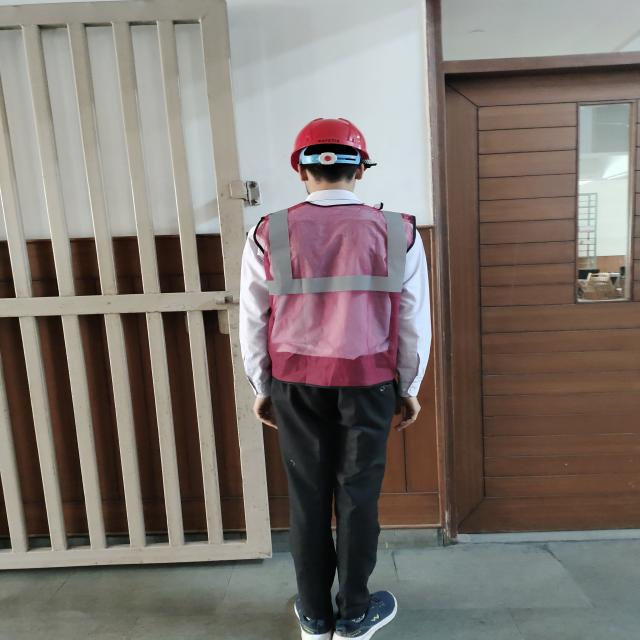safe: (240, 117, 430, 640)
